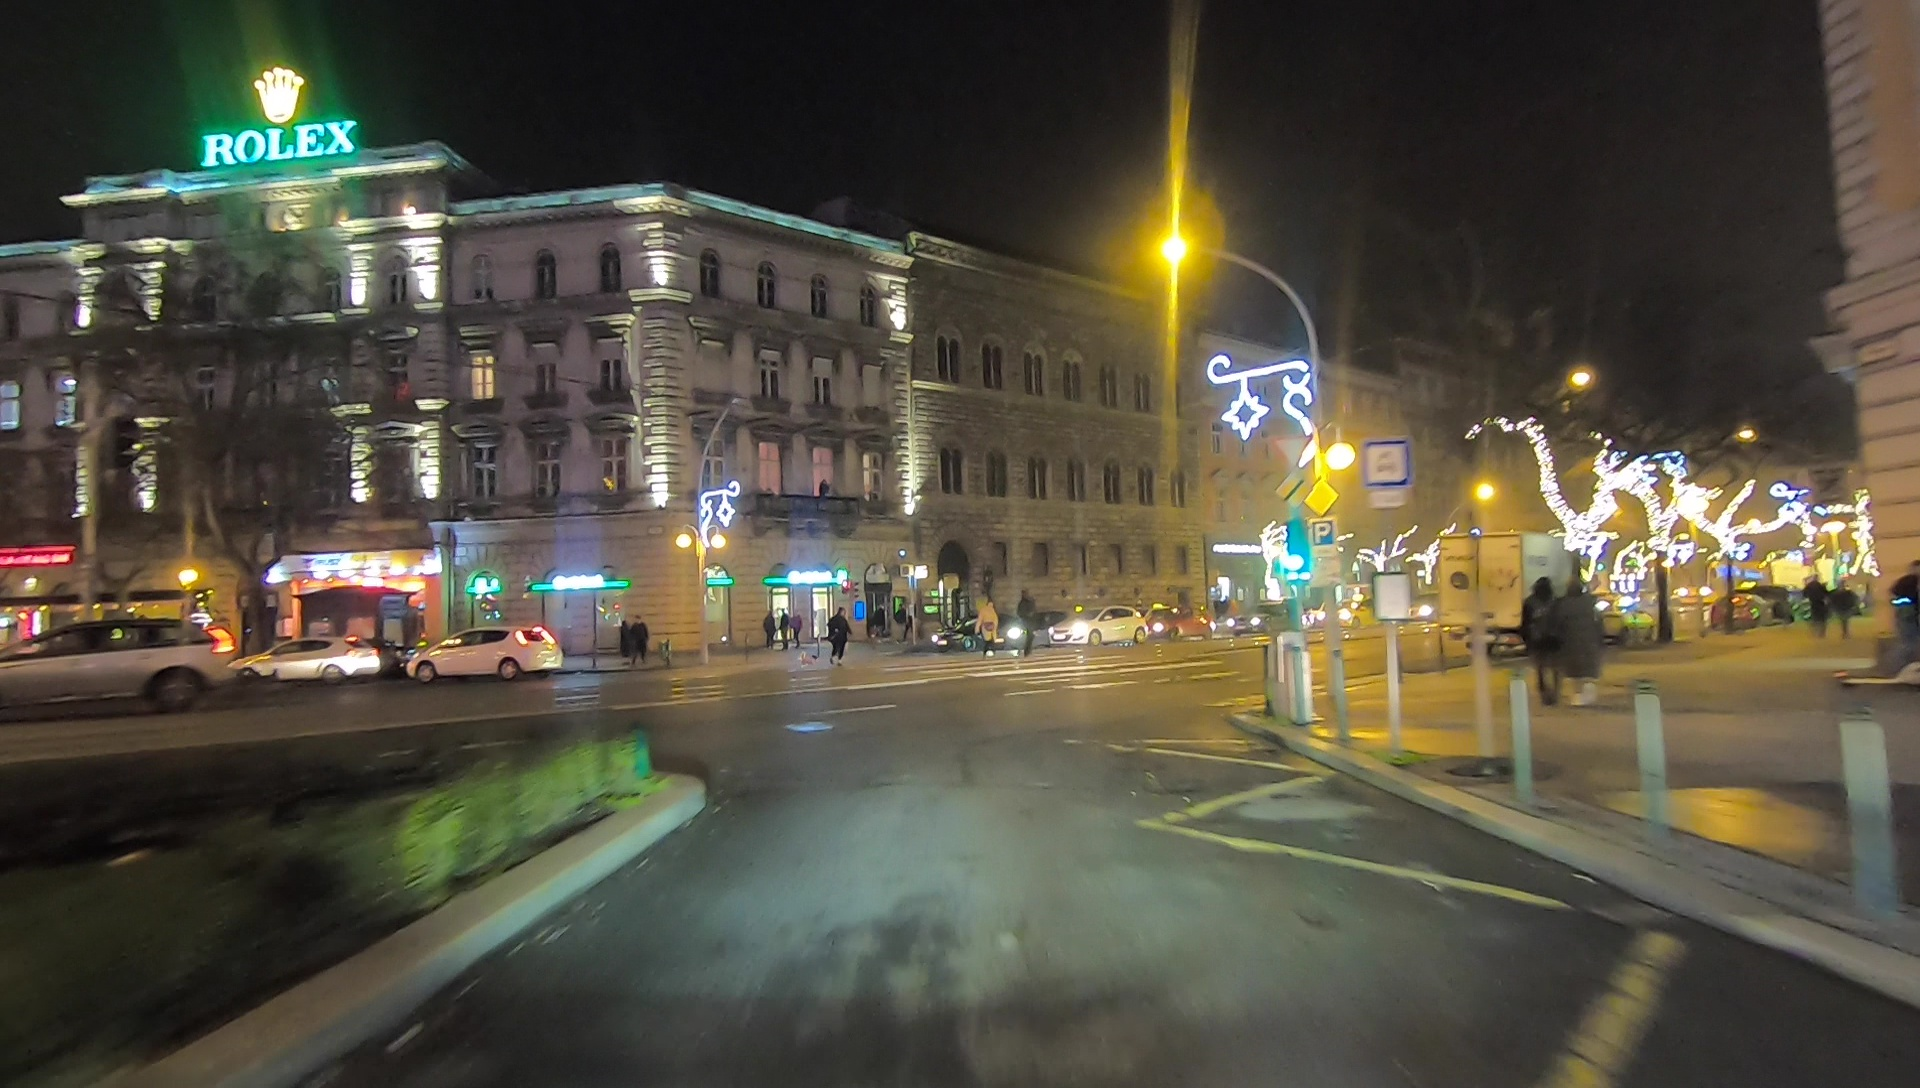person: (1521, 573, 1571, 708), (1564, 580, 1608, 708), (1888, 565, 1920, 657), (1804, 576, 1830, 650), (1830, 576, 1856, 652), (1015, 591, 1037, 656), (828, 608, 852, 663), (978, 595, 999, 656), (627, 614, 650, 665), (762, 610, 776, 647), (777, 611, 788, 645), (790, 612, 801, 647)
